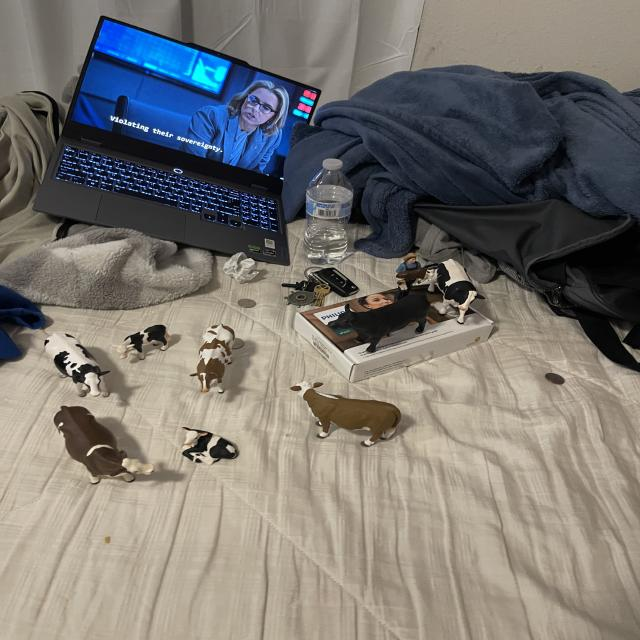cow: (36, 396, 156, 509), (279, 375, 404, 459), (324, 282, 439, 362), (34, 324, 121, 410), (424, 255, 485, 330), (187, 320, 241, 398), (114, 320, 174, 368), (177, 426, 241, 471), (394, 256, 440, 292)
person: (391, 252, 422, 277)
